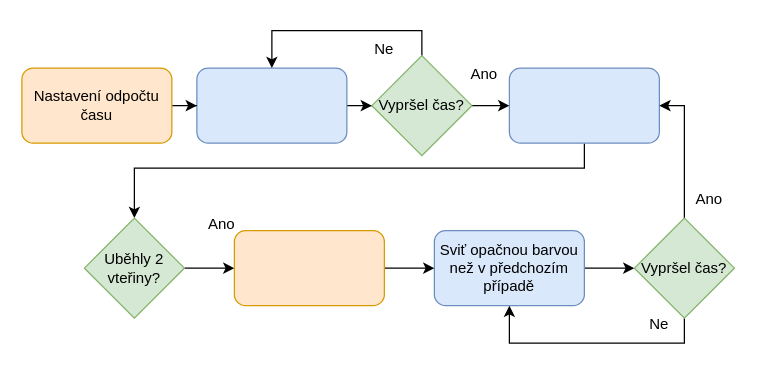
Image size: 769x375. Some labels were removed from this diagram. The shapes that lost their labels are listed below. From the top down, each one's box as (x1, y1, x2, y2) in pixels, then its label:
(196, 67, 347, 143): Sviť červeně nebo zeleně P(0,5)
(508, 67, 659, 143): Přepni polovinu LED na žlutou barvu
(233, 229, 384, 306): Nastavení nového odpočtu
